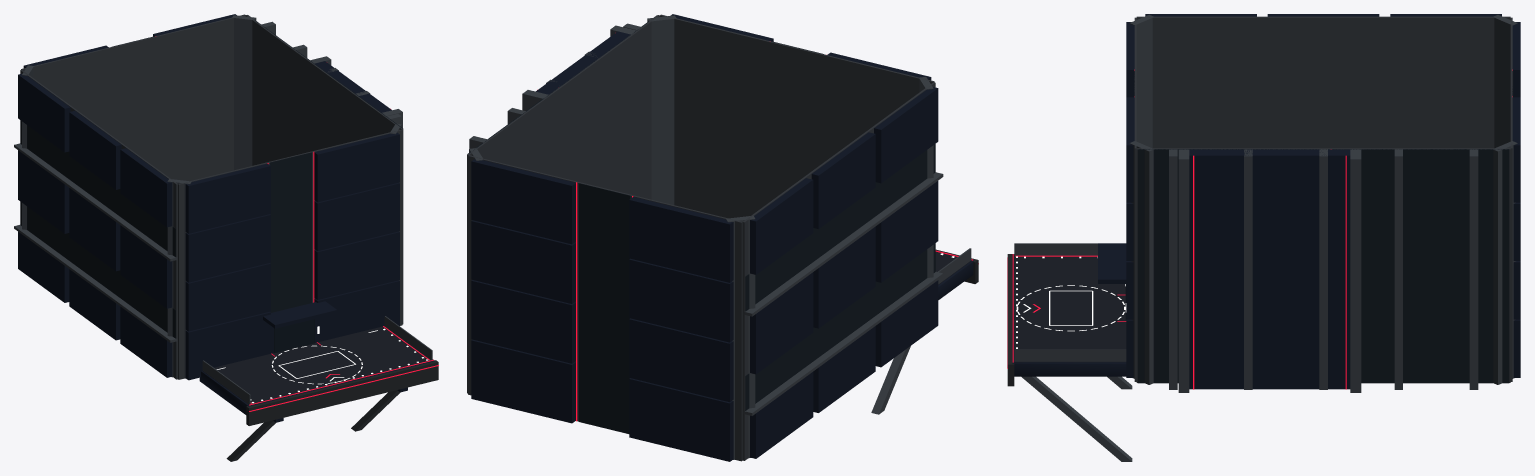
The model's file is hq_shaft_b_l.gltf.
3 renders of one model, left to right at view 1: azimuth 30°, elevation 25°; view 2: azimuth 150°, elevation 25°; view 3: azimuth 270°, elevation 25°, orthographic. The views are drawn at different scales.
Parts seen in each view (by area): view 1: hull, panel, facade, fin, stone, graphite, crimson, glass, white; view 2: hull, panel, facade, fin, crimson; view 3: panel, hull, facade, fin, stone, crimson, graphite, white.
Boxes of the visible parts, x1=… form: hull: x1=18, y1=14, x2=434, y2=422; panel: x1=20, y1=14, x2=403, y2=379; facade: x1=20, y1=15, x2=402, y2=338; fin: x1=14, y1=15, x2=432, y2=461; stone: x1=202, y1=326, x2=430, y2=404; graphite: x1=246, y1=360, x2=438, y2=425; crimson: x1=155, y1=36, x2=438, y2=411; glass: x1=274, y1=319, x2=314, y2=353; white: x1=216, y1=330, x2=377, y2=384; hull: x1=471, y1=14, x2=973, y2=461; panel: x1=467, y1=14, x2=935, y2=461; facade: x1=467, y1=15, x2=935, y2=433; fin: x1=469, y1=15, x2=971, y2=459; crimson: x1=537, y1=41, x2=978, y2=421; panel: x1=1134, y1=16, x2=1512, y2=382; hull: x1=1012, y1=14, x2=1520, y2=389; facade: x1=1134, y1=71, x2=1513, y2=383; fin: x1=1014, y1=14, x2=1517, y2=461; stone: x1=1014, y1=255, x2=1126, y2=362; crimson: x1=1007, y1=69, x2=1512, y2=389; graphite: x1=1007, y1=254, x2=1014, y2=386; white: x1=1016, y1=284, x2=1125, y2=331.
Bounding box in the file's own units: 32.2 × 35 × 47.8.
